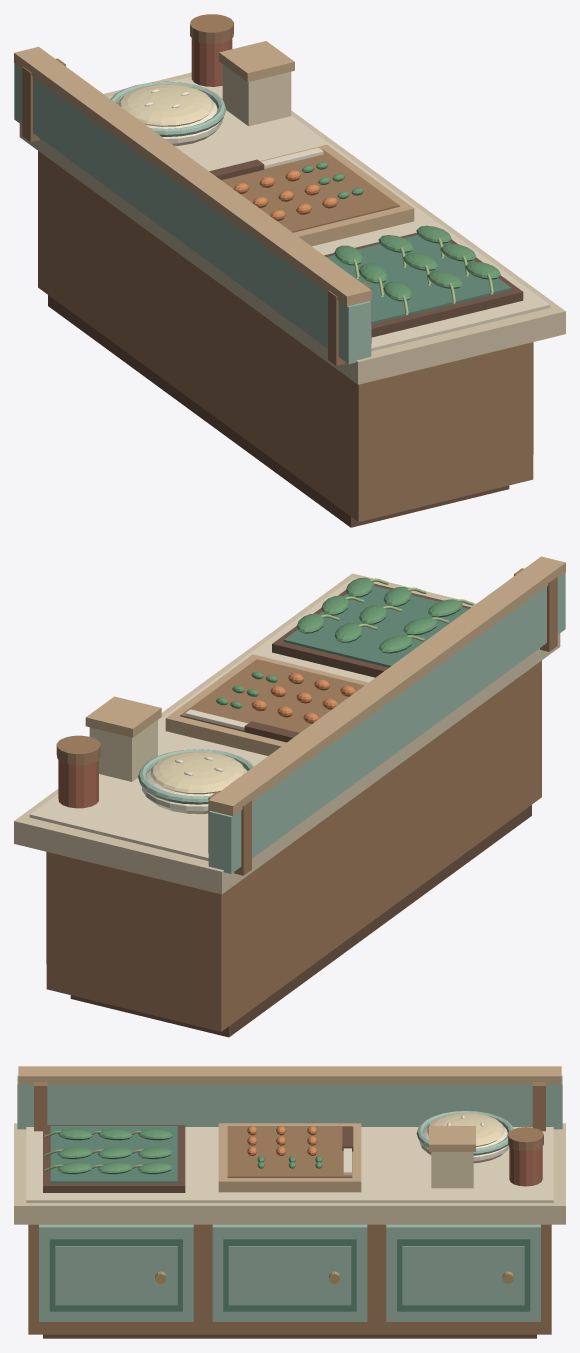
Rendered from park_kitchen_wall_prep_console.glb.
The picture shows the model from 3 angles, top to bottom: view 1: azimuth 30°, elevation 25°; view 2: azimuth 150°, elevation 25°; view 3: azimuth 270°, elevation 25°; orthographic projection. The views are drawn at different scales.
Visible parts, largest first — view 1: rounded_low_cabinet_carcass, low_sage_backstop, single_bullnose_stone_worktop, backstop_oak_cap, worktop_satin_inset, cut_board_inset, herb_tray_liner, setback_floor_plinth, square_flour_canister, rice_bowl_visible_rice, oiled_chopping_board, herb_tray_recess (+7 smaller); view 2: rounded_low_cabinet_carcass, low_sage_backstop, single_bullnose_stone_worktop, backstop_oak_cap, worktop_satin_inset, cut_board_inset, herb_tray_liner, setback_floor_plinth, oiled_chopping_board, rice_bowl_visible_rice, square_flour_canister, flour_canister_folded_lid (+8 smaller); view 3: low_sage_backstop, worktop_satin_inset, single_bullnose_stone_worktop, rounded_low_cabinet_carcass, backstop_oak_cap, fine_front_panel.001, fine_front_panel, fine_front_panel.002, enamel_cabinet_door.001, enamel_cabinet_door, enamel_cabinet_door.002, cut_board_inset (+17 smaller).
Boxes of the visible parts, left/top/right/bottom form: rounded_low_cabinet_carcass: left=38, top=151, right=533, bottom=521; low_sage_backstop: left=14, top=63, right=371, bottom=364; single_bullnose_stone_worktop: left=19, top=72, right=565, bottom=384; backstop_oak_cap: left=14, top=46, right=371, bottom=306; worktop_satin_inset: left=108, top=76, right=550, bottom=351; cut_board_inset: left=221, top=149, right=399, bottom=232; herb_tray_liner: left=326, top=235, right=511, bottom=323; setback_floor_plinth: left=48, top=295, right=509, bottom=527; square_flour_canister: left=222, top=64, right=291, bottom=126; rice_bowl_visible_rice: left=118, top=84, right=213, bottom=126; oiled_chopping_board: left=260, top=144, right=414, bottom=246; herb_tray_recess: left=324, top=232, right=523, bottom=337; rounded_low_cabinet_carcass: left=46, top=660, right=541, bottom=1031; low_sage_backstop: left=208, top=573, right=565, bottom=873; single_bullnose_stone_worktop: left=14, top=573, right=560, bottom=894; backstop_oak_cap: left=208, top=556, right=565, bottom=816; worktop_satin_inset: left=29, top=578, right=471, bottom=860; cut_board_inset: left=180, top=659, right=364, bottom=732; herb_tray_liner: left=284, top=586, right=468, bottom=667; setback_floor_plinth: left=70, top=805, right=531, bottom=1037; oiled_chopping_board: left=165, top=654, right=368, bottom=755; rice_bowl_visible_rice: left=150, top=751, right=245, bottom=794; square_flour_canister: left=89, top=720, right=157, bottom=781; flour_canister_folded_lid: left=85, top=696, right=161, bottom=737; low_sage_backstop: left=17, top=1075, right=562, bottom=1129; worktop_satin_inset: left=26, top=1127, right=553, bottom=1202; single_bullnose_stone_worktop: left=14, top=1123, right=565, bottom=1224; rounded_low_cabinet_carcass: left=28, top=1224, right=551, bottom=1334; backstop_oak_cap: left=18, top=1066, right=561, bottom=1084; fine_front_panel.001: left=228, top=1246, right=351, bottom=1305; fine_front_panel: left=55, top=1246, right=177, bottom=1305; fine_front_panel.002: left=402, top=1246, right=524, bottom=1305; enamel_cabinet_door.001: left=212, top=1224, right=367, bottom=1321; enamel_cabinet_door: left=39, top=1224, right=193, bottom=1321; enamel_cabinet_door.002: left=386, top=1224, right=540, bottom=1321; cut_board_inset: left=227, top=1126, right=352, bottom=1177.
Size of the model in its own units: 0.92 by 1.01 by 2.48.
